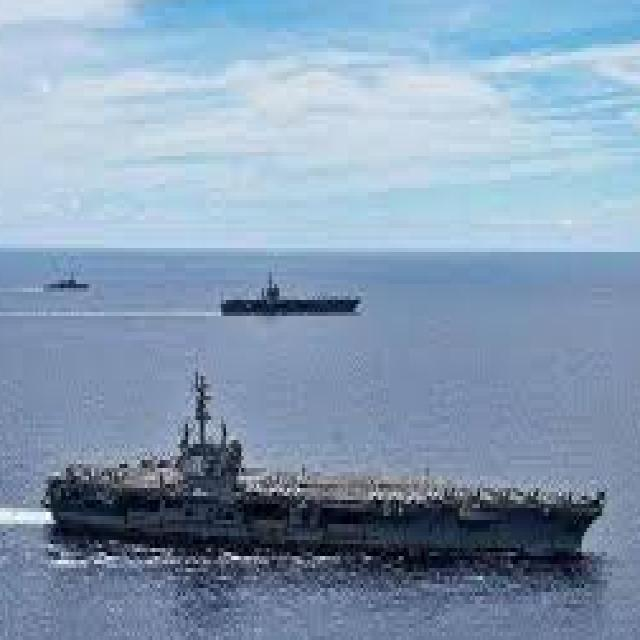navalvessels: (39, 363, 600, 575), (208, 269, 364, 318), (40, 274, 94, 304)
